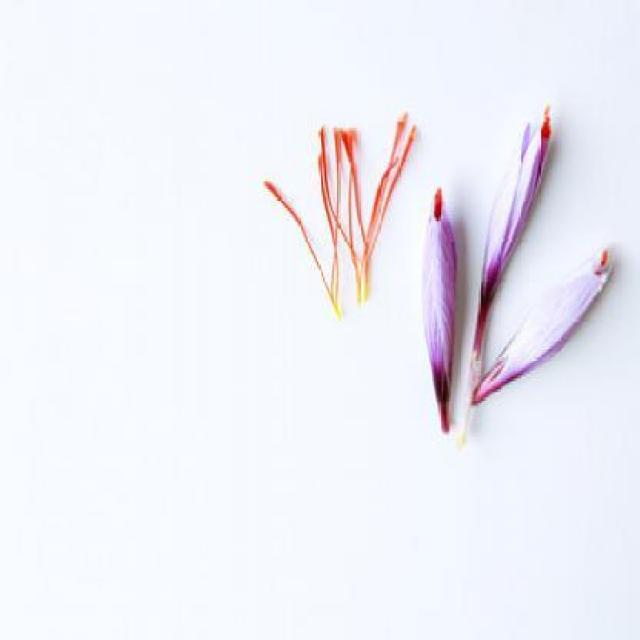saffron closed: (470, 105, 548, 400), (474, 248, 612, 405), (422, 189, 456, 434)
